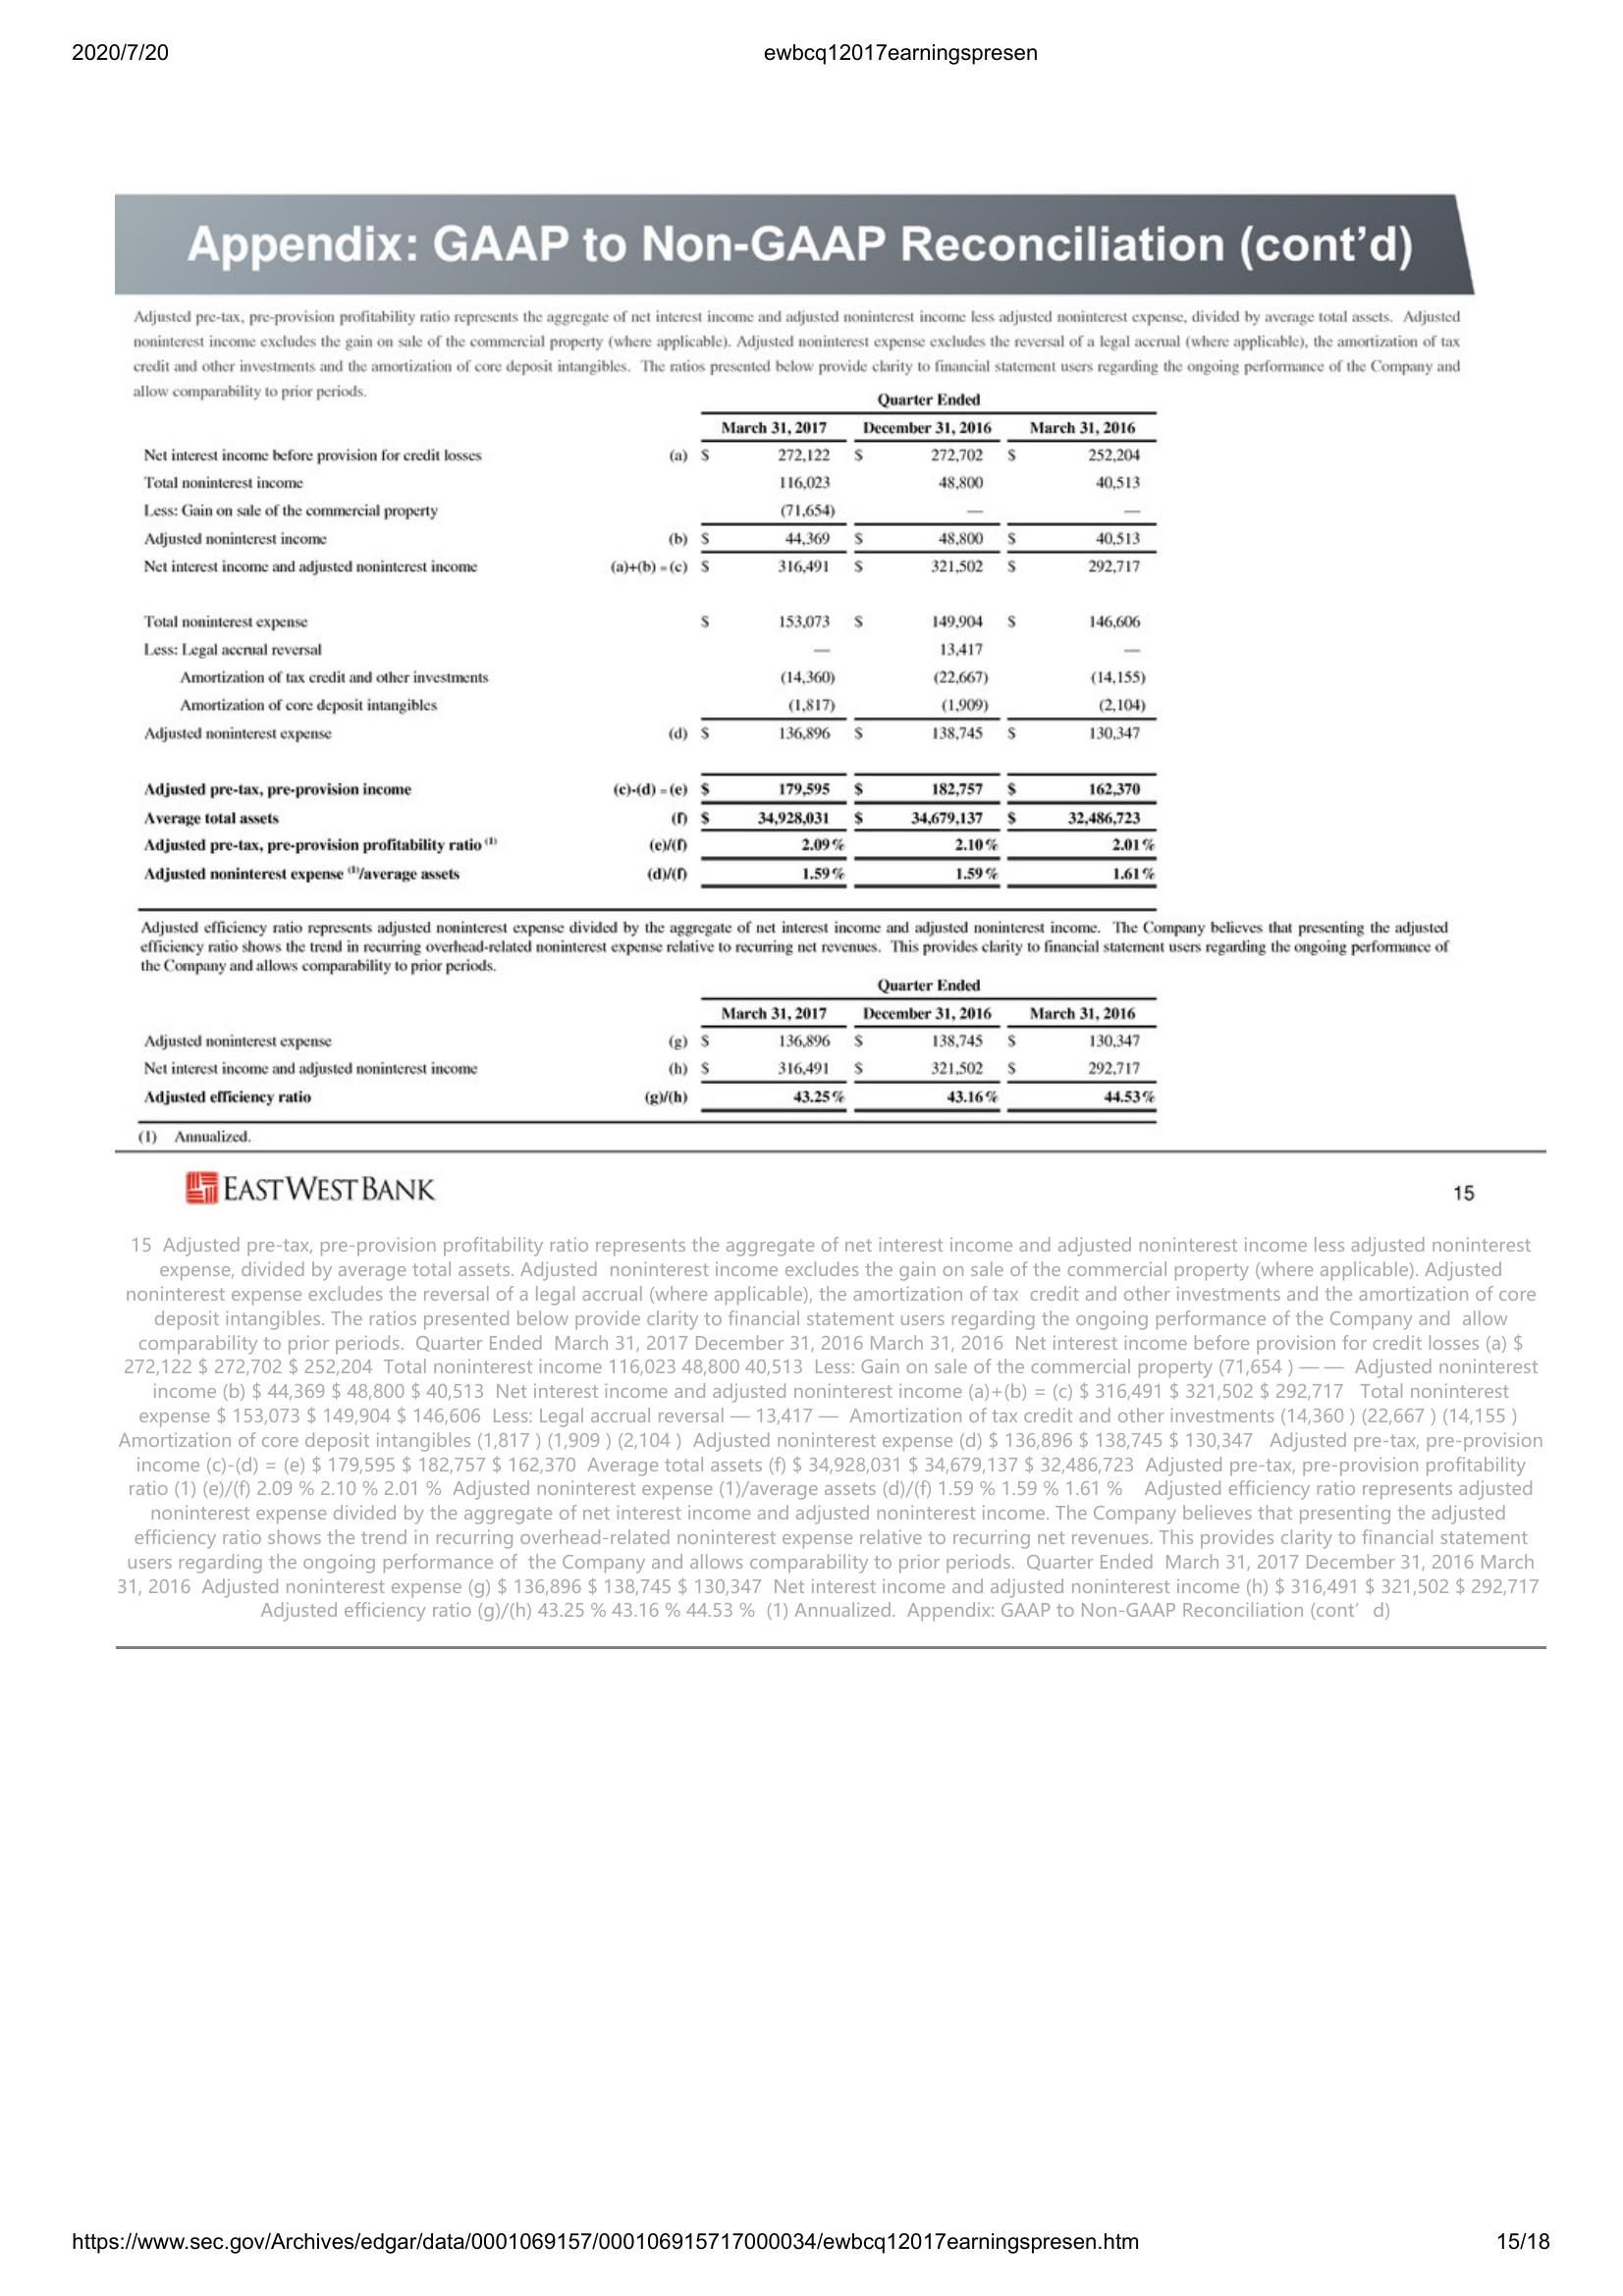table: (141, 393, 1170, 916), (141, 972, 1166, 1125)
